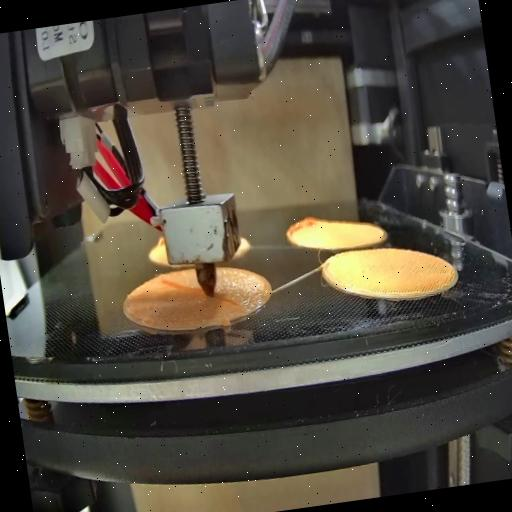over_extrusion: (276, 204, 326, 253), (156, 269, 208, 307), (211, 287, 240, 314), (156, 234, 166, 248)
